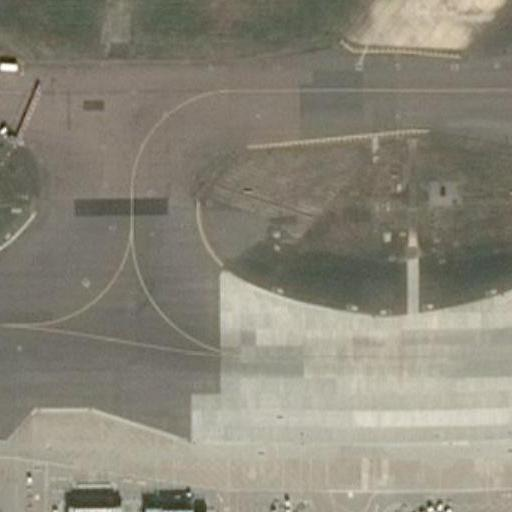Aircraft: (0, 463, 6, 512)
